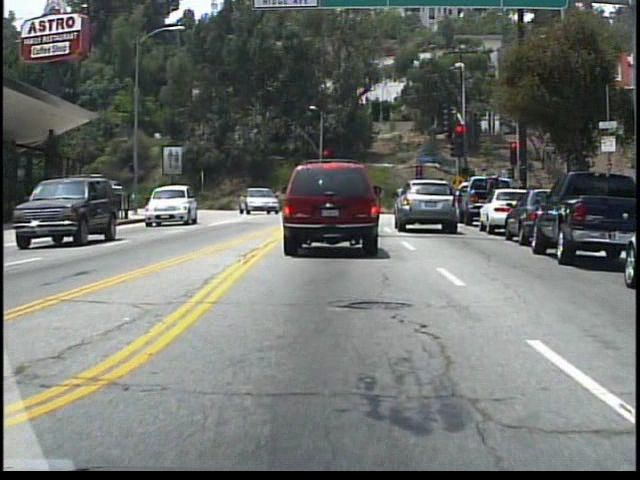person: (252, 187, 267, 212)
